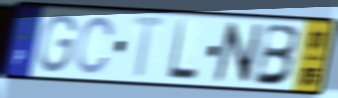B: (252, 22, 302, 88)
C: (73, 15, 117, 77)
G: (37, 12, 79, 76)
L: (165, 18, 200, 83)
N: (211, 20, 265, 86)
T: (131, 13, 169, 81)
